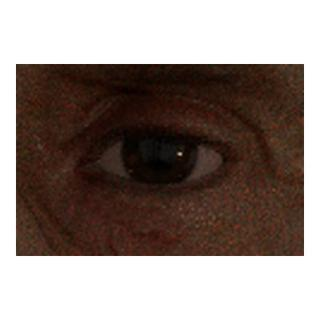pupil: (143, 136, 174, 166)
